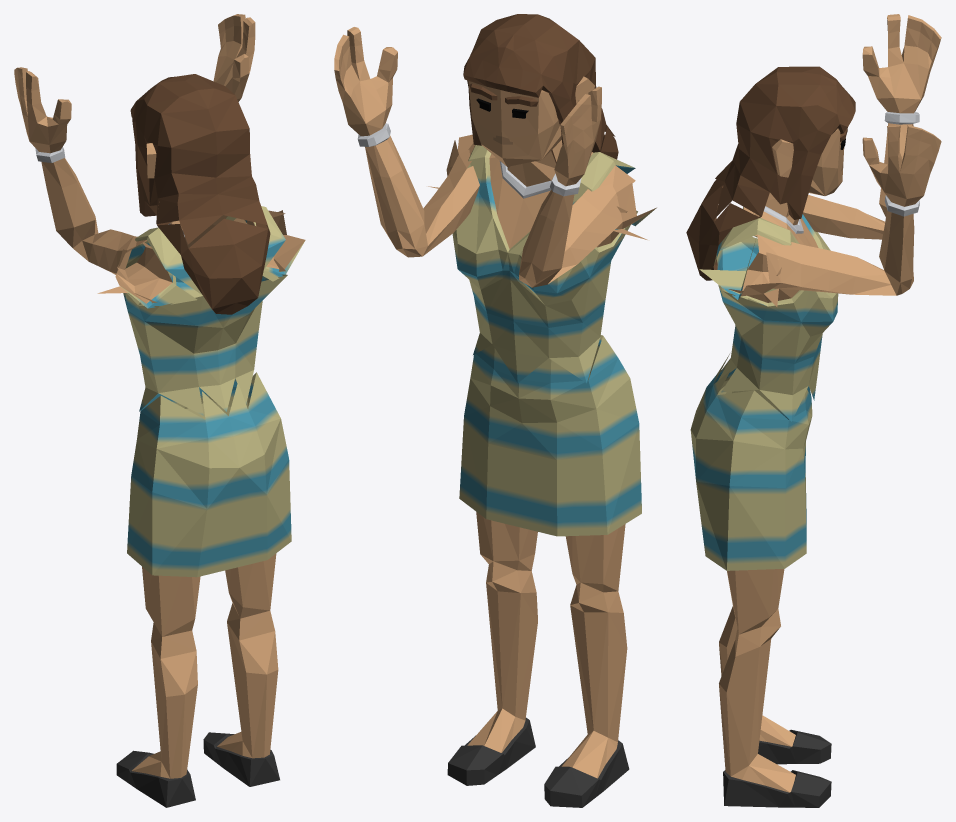
The model's file is Demon_Mother_02_fists.obj.
The picture shows the model from 3 angles, left to right: view 1: azimuth 30°, elevation 25°; view 2: azimuth 150°, elevation 25°; view 3: azimuth 270°, elevation 25°; orthographic projection. The views are drawn at different scales.
Visible parts, largest first — view 1: Demon_Mother_02_fists; view 2: Demon_Mother_02_fists; view 3: Demon_Mother_02_fists.
Part boxes in pixels (x1,y1,x2,y2): Demon_Mother_02_fists: (14, 14, 305, 807); Demon_Mother_02_fists: (334, 14, 656, 807); Demon_Mother_02_fists: (686, 14, 941, 807).
Size of the model in its own units: 0.6235 by 1.82 by 0.5937.
Materials: 1 (1 with a texture image).
